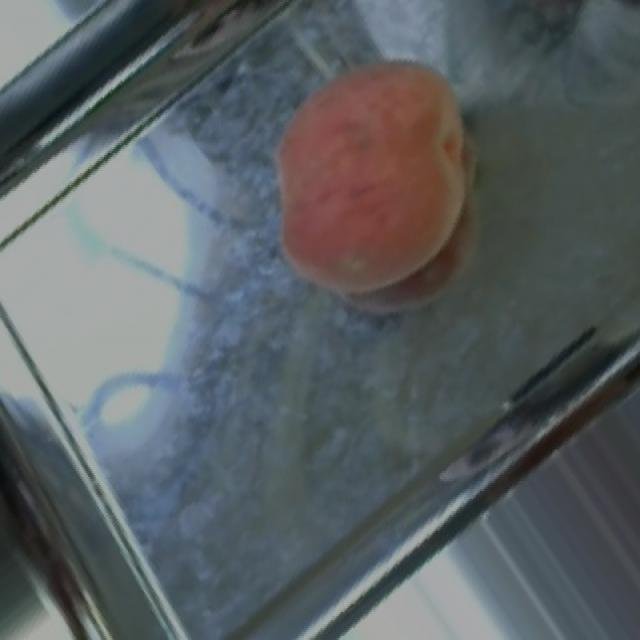Fruit: (244, 42, 497, 316)
